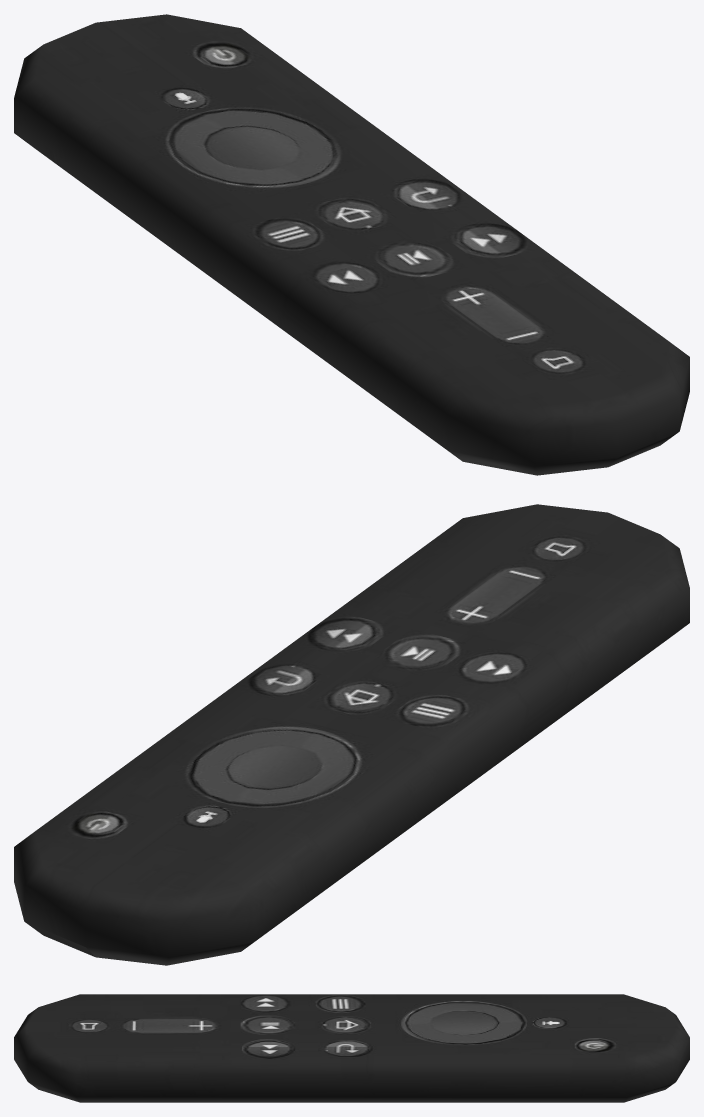
Rendered from frl_apartment_remote-control_01.glb.
3 views of the same model, one above another, from view 1: azimuth 30°, elevation 25°; view 2: azimuth 150°, elevation 25°; view 3: azimuth 270°, elevation 25° (orthographic). The views are drawn at different scales.
Parts seen in each view (by area): view 1: frl_apartment_remote-control_01; view 2: frl_apartment_remote-control_01; view 3: frl_apartment_remote-control_01.
Boxes of the visible parts, x1,y1,x2,y2 form: frl_apartment_remote-control_01: [14, 14, 689, 475]; frl_apartment_remote-control_01: [14, 504, 689, 965]; frl_apartment_remote-control_01: [14, 994, 689, 1102].
Bounding box in the file's own units: 0.0465 × 0.0129 × 0.1774.
Materials: 1 (1 with a texture image).
